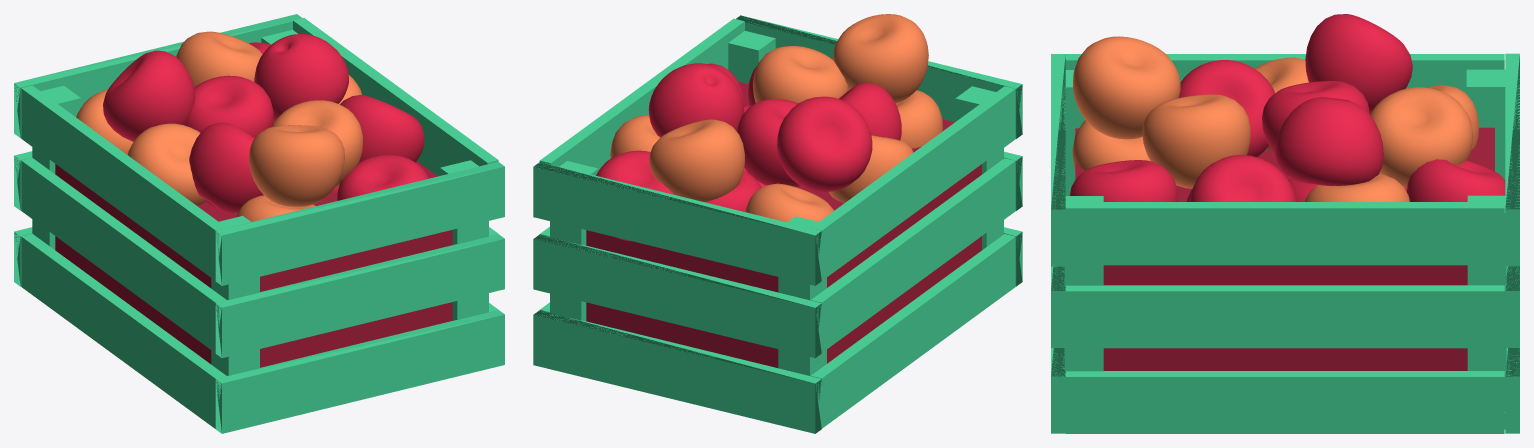
File: laatikkoomenoilla.fbx
3 views of the same model, side by side, from view 1: azimuth 30°, elevation 25°; view 2: azimuth 150°, elevation 25°; view 3: azimuth 270°, elevation 25° (orthographic). The views are drawn at different scales.
Visible parts, largest first — view 1: Cube, Sphere; view 2: Cube, Sphere; view 3: Cube, Sphere.
Boxes of the visible parts, x1,y1,x2,y2 form: Cube: [14, 14, 504, 433]; Sphere: [76, 31, 429, 221]; Cube: [533, 15, 1022, 433]; Sphere: [596, 14, 942, 241]; Cube: [1051, 53, 1519, 433]; Sphere: [1069, 14, 1505, 201].
Bounding box in the file's own units: 165 × 147 × 210.
